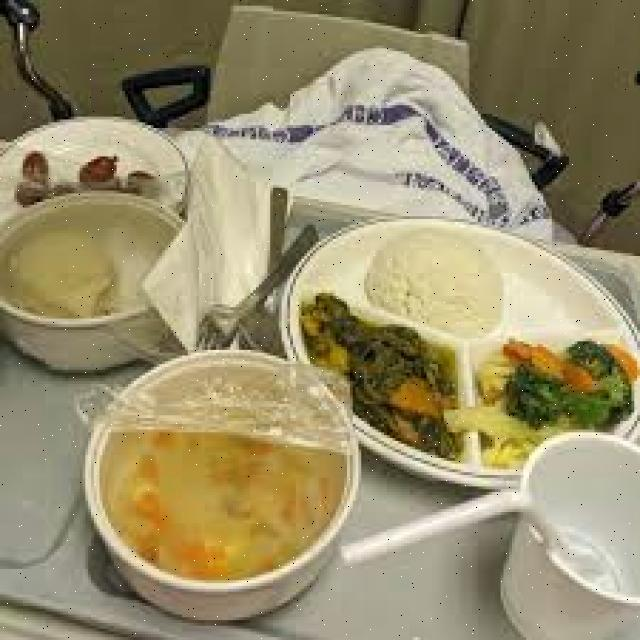Green veg: (299, 293, 637, 466)
Rice: (364, 228, 501, 336)
